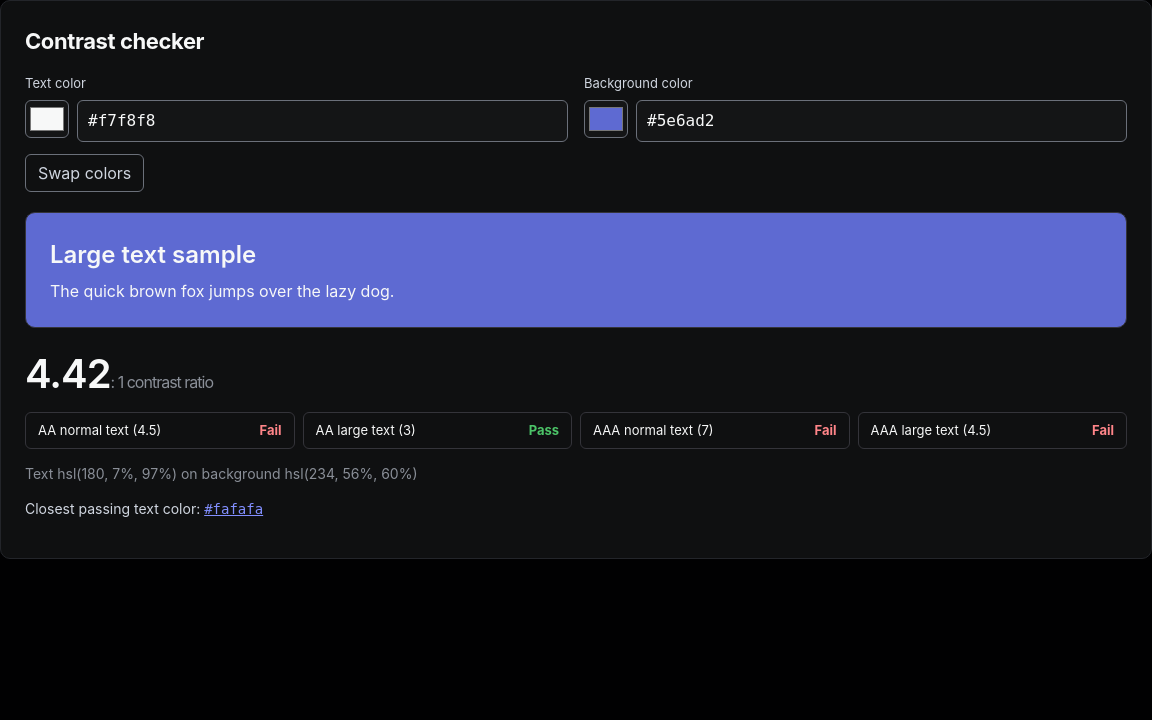
Test case: ContrastChecker › flags invalid input and offers a fix for low contrast
The image size is (1152, 720).
Replace the text in the field labelled "Text color" with "nope" at point(322, 120), box x1=77 y1=100 x2=568 y2=142
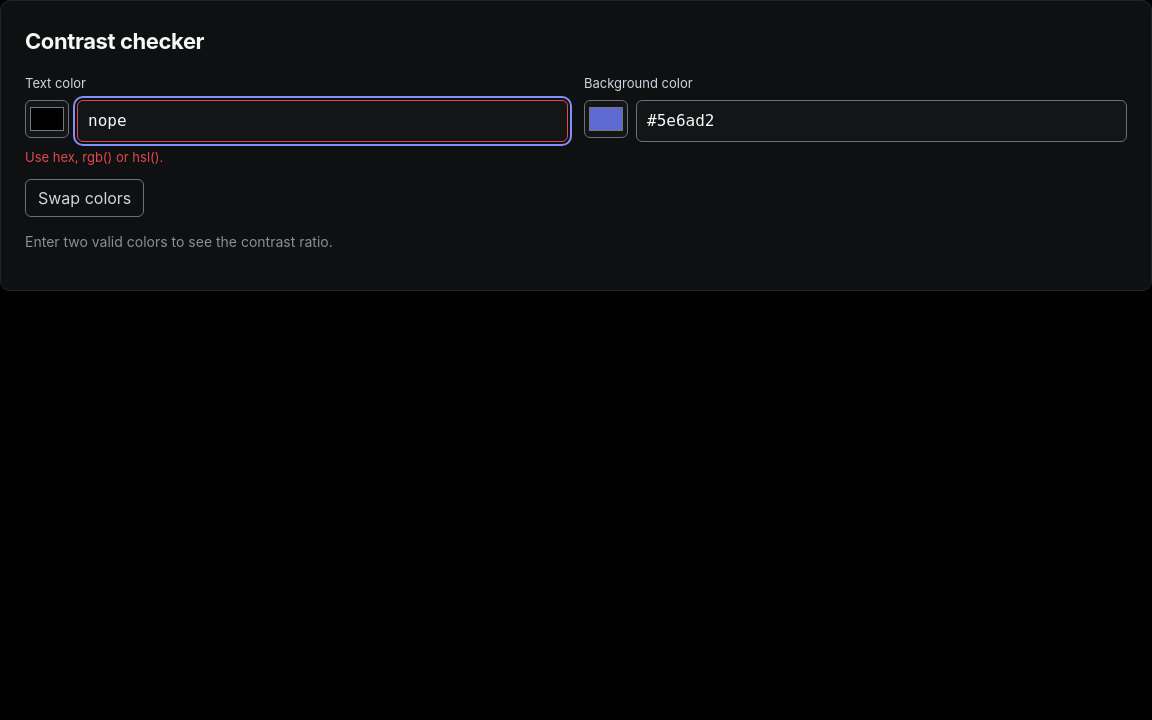
Expected: the message "Use hex, rgb() or hsl()." is shown, x1=25 y1=148 x2=163 y2=164
Replace the text in the field labelled "Text color" with "#777777" at point(322, 120), box x1=77 y1=100 x2=568 y2=142
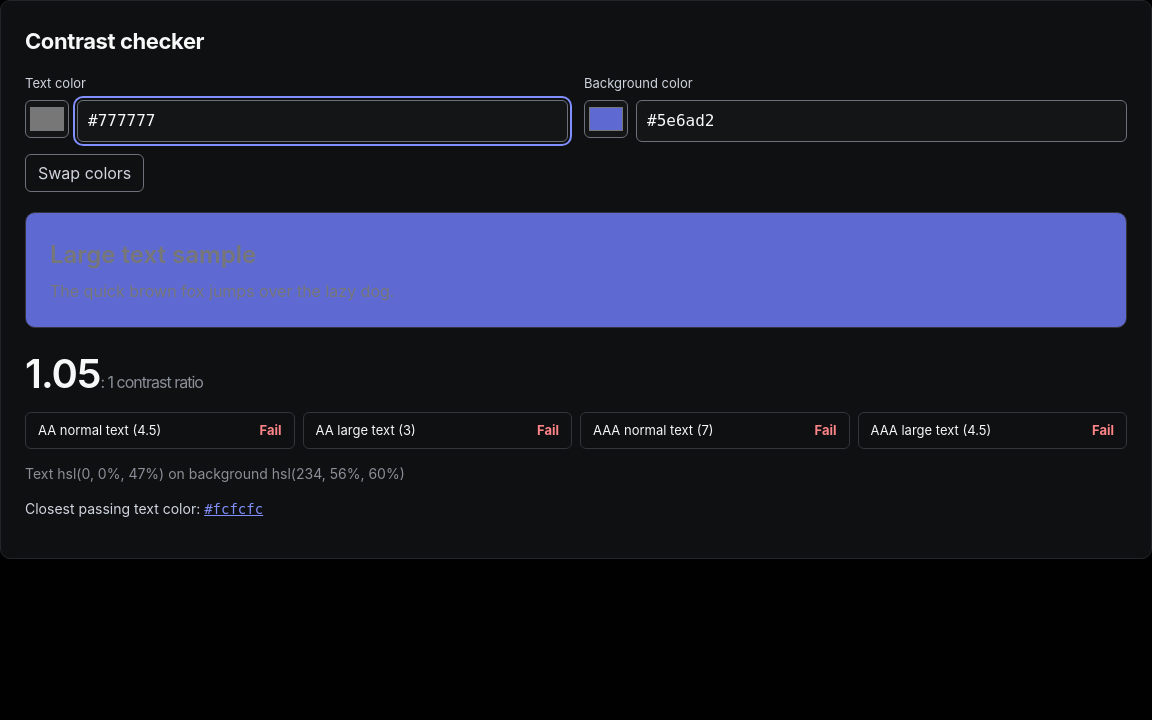
Replace the text in the field labelled "Background color" with "#888888" at point(882, 120), box x1=636 y1=100 x2=1127 y2=142
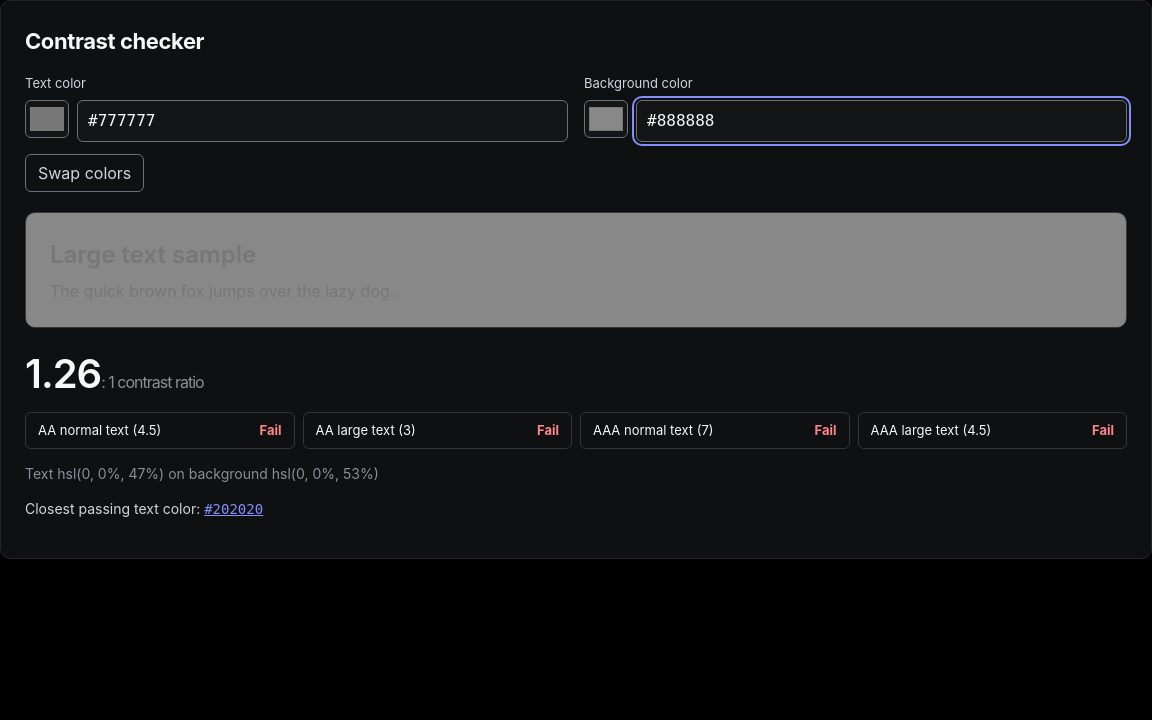
Expected: the text "Closest passing text color: #202020" is shown, x1=25 y1=499 x2=263 y2=520
